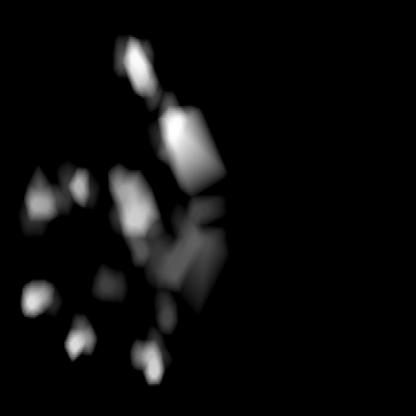fingers: (115, 37, 155, 96)
palm: (18, 280, 170, 379), (21, 167, 93, 357)
thumb: (112, 100, 219, 270)
